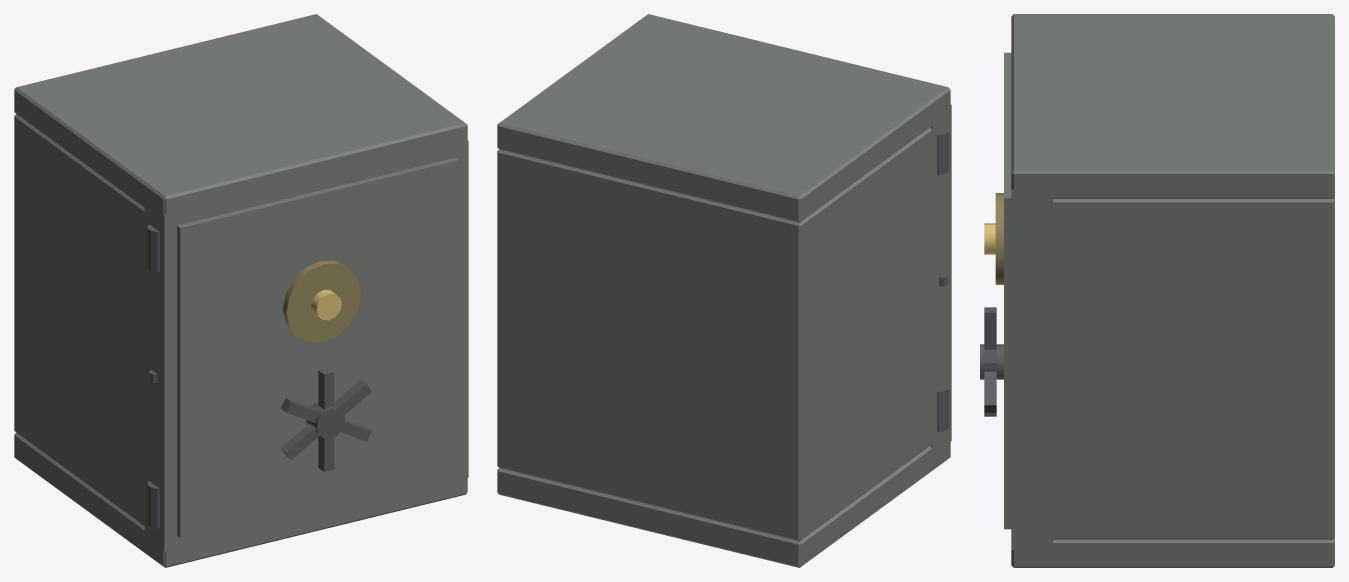
Rendered from Safe_Closed.fbx.
3 views of the same model, side by side, from view 1: azimuth 30°, elevation 25°; view 2: azimuth 150°, elevation 25°; view 3: azimuth 270°, elevation 25° (orthographic). The views are drawn at different scales.
Visible parts, largest first — view 1: Safe_Closed; view 2: Safe_Closed; view 3: Safe_Closed.
Part boxes in pixels (x1,y1,x2,y2): Safe_Closed: [14, 14, 468, 567]; Safe_Closed: [497, 14, 951, 567]; Safe_Closed: [980, 14, 1334, 567].
Bounding box in the file's own units: 73.28 × 84 × 68.
